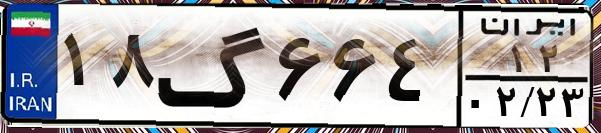0: (470, 70, 495, 125)
1: (57, 26, 110, 100), (508, 27, 537, 80)
2: (537, 27, 568, 80), (495, 70, 520, 125), (535, 70, 560, 125)
3: (560, 70, 590, 125)
4: (385, 28, 445, 110)
6: (270, 28, 330, 110), (330, 28, 385, 110)
8: (110, 28, 156, 98)
گ: (156, 12, 270, 120)
